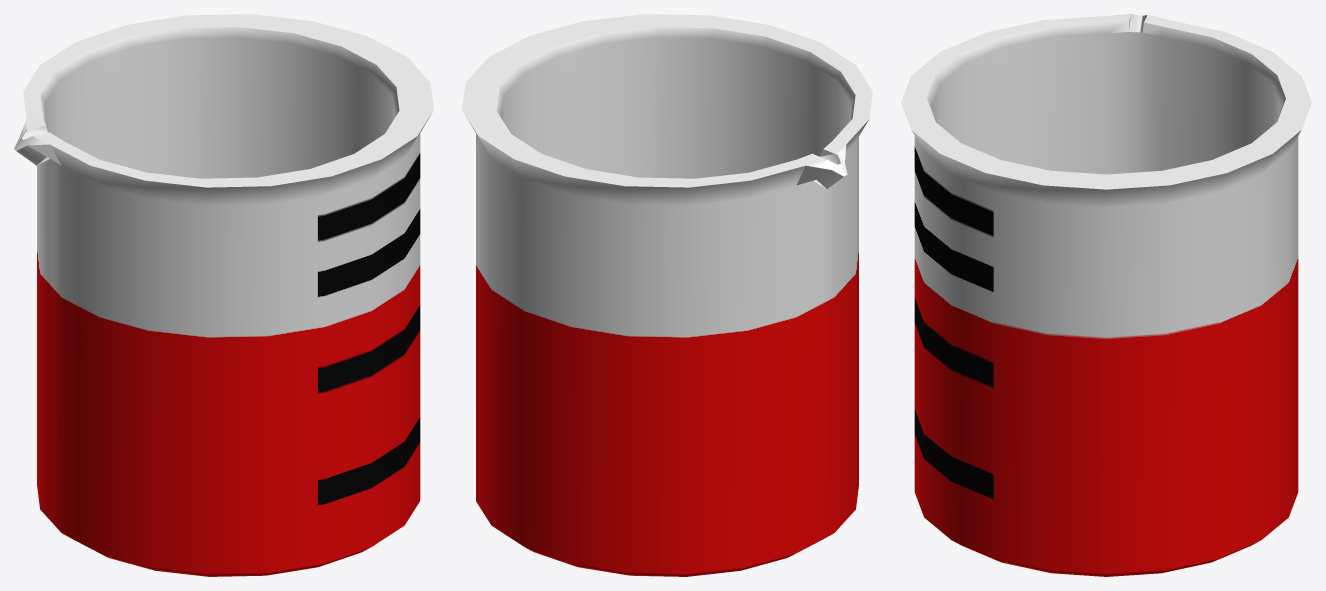
Rendered from beakerRed.fbx.
3 views of the same model, side by side, from view 1: azimuth 30°, elevation 25°; view 2: azimuth 150°, elevation 25°; view 3: azimuth 270°, elevation 25° (orthographic).
Visible parts, largest first — view 1: pasted__polySurface7; view 2: pasted__polySurface7; view 3: pasted__polySurface7.
Part boxes in pixels (bbox=[...]): pasted__polySurface7: bbox=[14, 14, 433, 576]; pasted__polySurface7: bbox=[462, 14, 872, 576]; pasted__polySurface7: bbox=[901, 14, 1311, 576].
Size of the model in its own units: 0.6211 by 0.6355 by 0.5923.
1 material, 1 textured.
